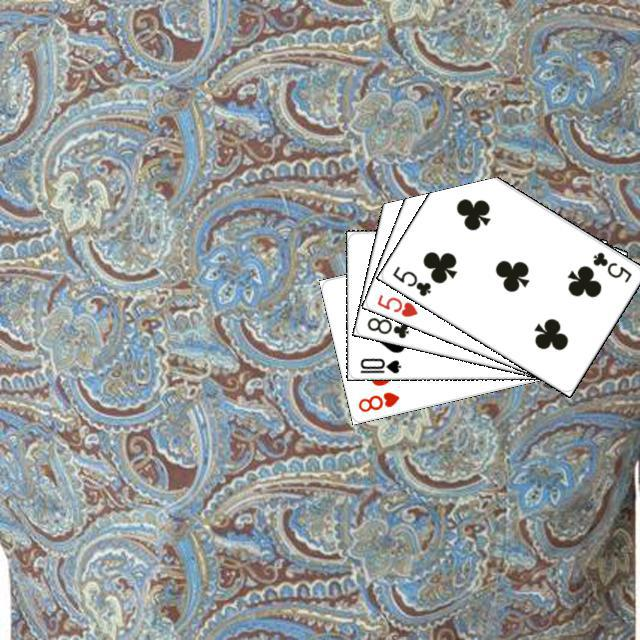10s: (355, 353, 402, 375)
5c: (387, 261, 433, 298), (588, 247, 634, 284)
5h: (372, 290, 420, 319)
8c: (362, 312, 411, 340)
8h: (353, 387, 401, 414)
